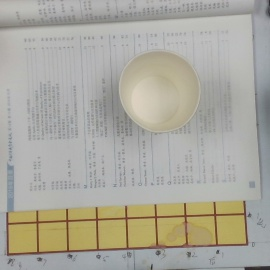cup: (118, 52, 201, 132)
